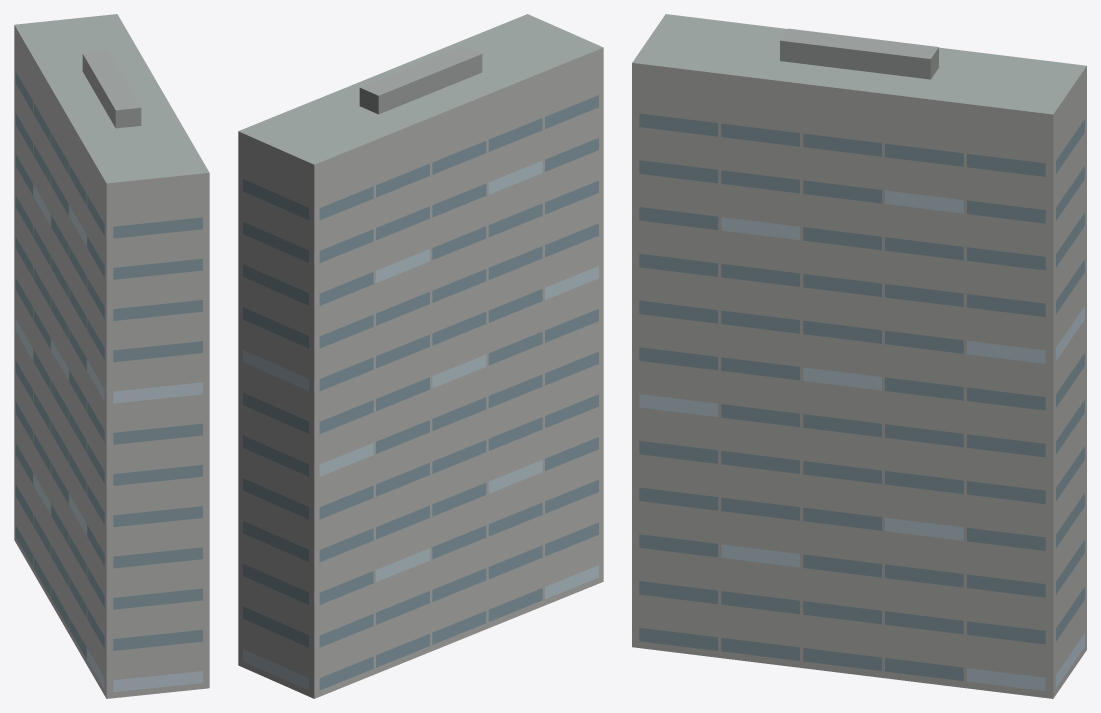
Rendered from fallback-gwanak-dream-town-143.glb.
3 renders of one model, left to right at view 1: azimuth 30°, elevation 25°; view 2: azimuth 150°, elevation 25°; view 3: azimuth 270°, elevation 25°, orthographic. The views are drawn at different scales.
Parts seen in each view (by area): view 1: fallback-gwanak-dream-town-143; view 2: fallback-gwanak-dream-town-143; view 3: fallback-gwanak-dream-town-143.
Boxes of the visible parts, left/top/right/bottom form: fallback-gwanak-dream-town-143: left=14, top=14, right=209, bottom=698; fallback-gwanak-dream-town-143: left=238, top=14, right=603, bottom=698; fallback-gwanak-dream-town-143: left=632, top=14, right=1086, bottom=698.
Size of the model in its own units: 25.32 by 71 by 48.38.
